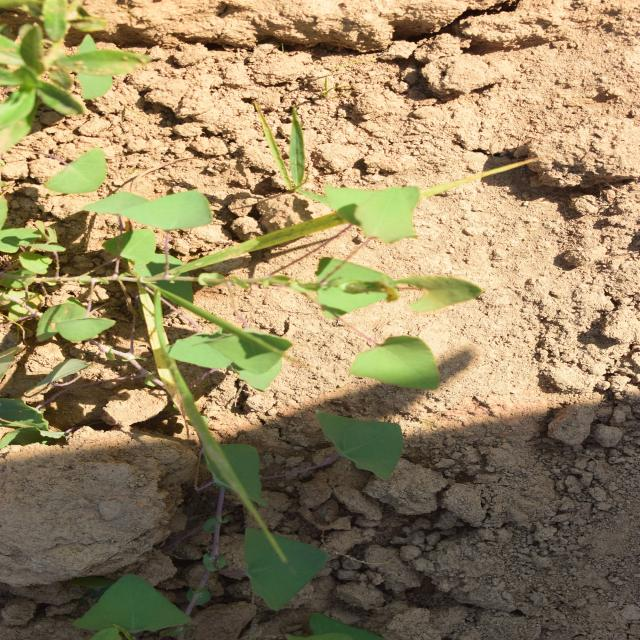Asiatic_Smartweed: (163, 199, 450, 468)
